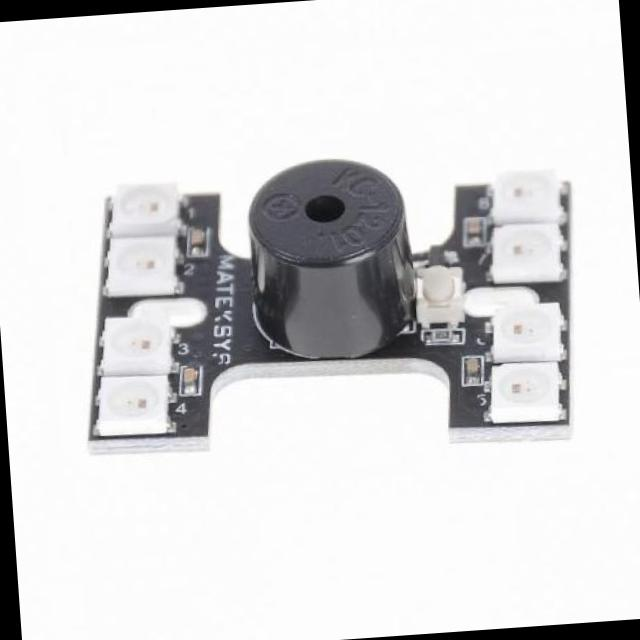LED: (92, 308, 183, 378), (90, 366, 176, 437), (102, 229, 183, 304), (491, 294, 570, 366), (488, 167, 572, 230), (491, 360, 573, 424), (487, 224, 572, 280), (101, 178, 182, 235)
capacitor: (180, 355, 203, 400), (187, 226, 210, 258), (461, 218, 488, 242), (462, 355, 482, 383)
resistor: (430, 322, 466, 347)
